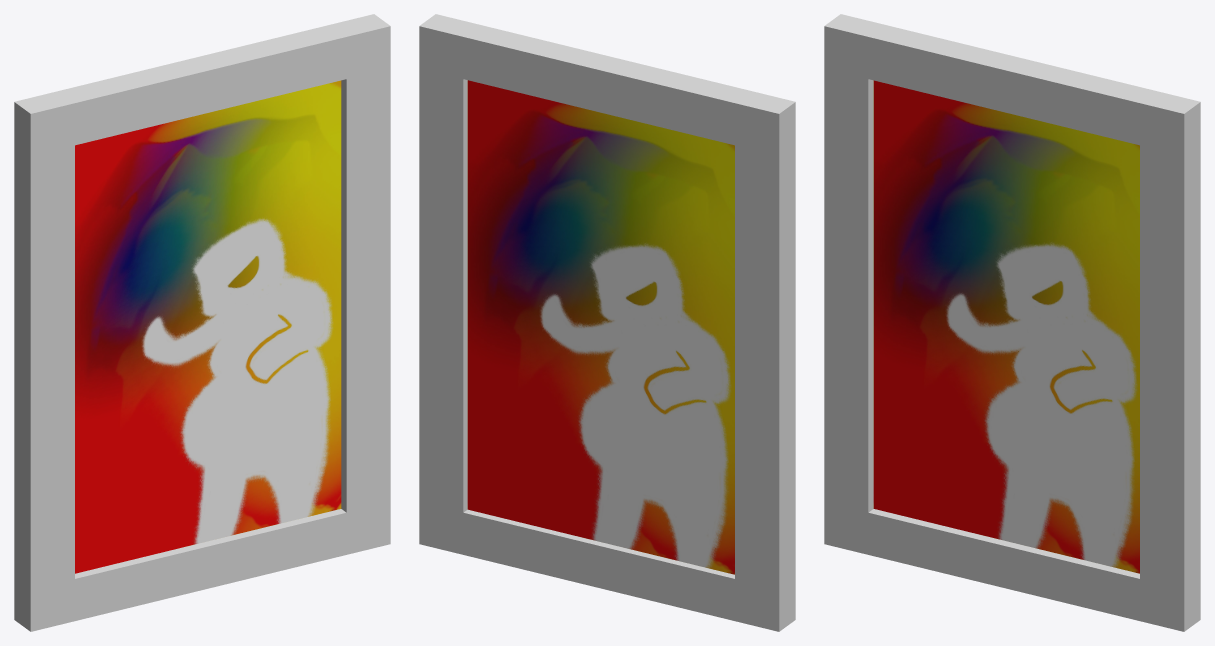
Rendered from Aristocrat_Frame.FBX.
3 views of the same model, side by side, from view 1: azimuth 30°, elevation 25°; view 2: azimuth 150°, elevation 25°; view 3: azimuth 330°, elevation 25° (orthographic).
Visible parts, largest first — view 1: Box004, Box001; view 2: Box004, Box001; view 3: Box004, Box001.
Part boxes in pixels (<box>): Box004: <box>75,80,341,573</box>; Box001: <box>14,14,390,631</box>; Box004: <box>467,80,734,574</box>; Box001: <box>419,14,795,631</box>; Box004: <box>873,80,1139,573</box>; Box001: <box>824,14,1200,631</box>.
Bounding box in the file's own units: 39.01 × 53.64 × 3.11.
1 material, 1 textured.
